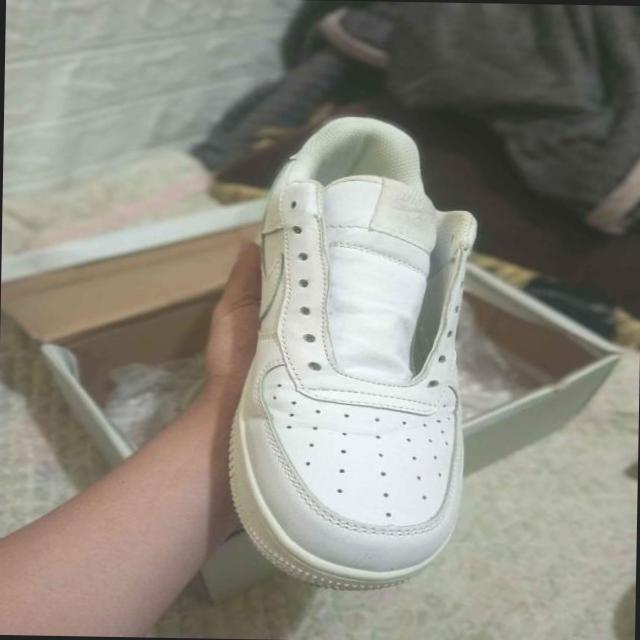nike_fake_airforce: (223, 118, 490, 597)
